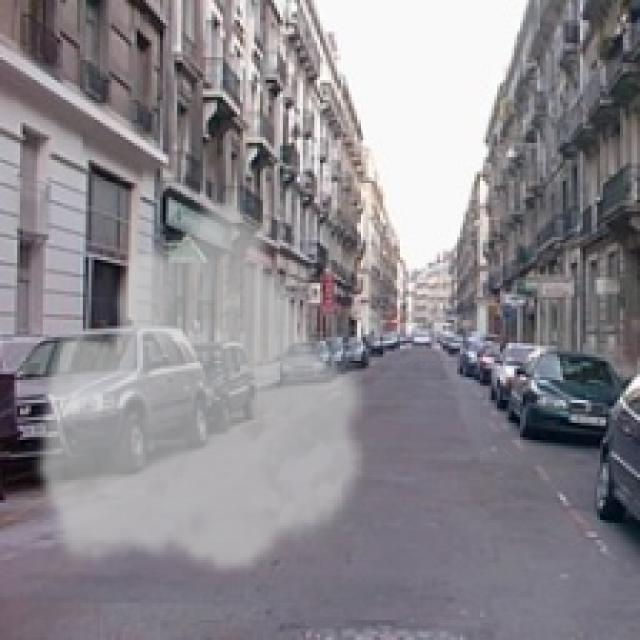smoke: (32, 192, 374, 577)
